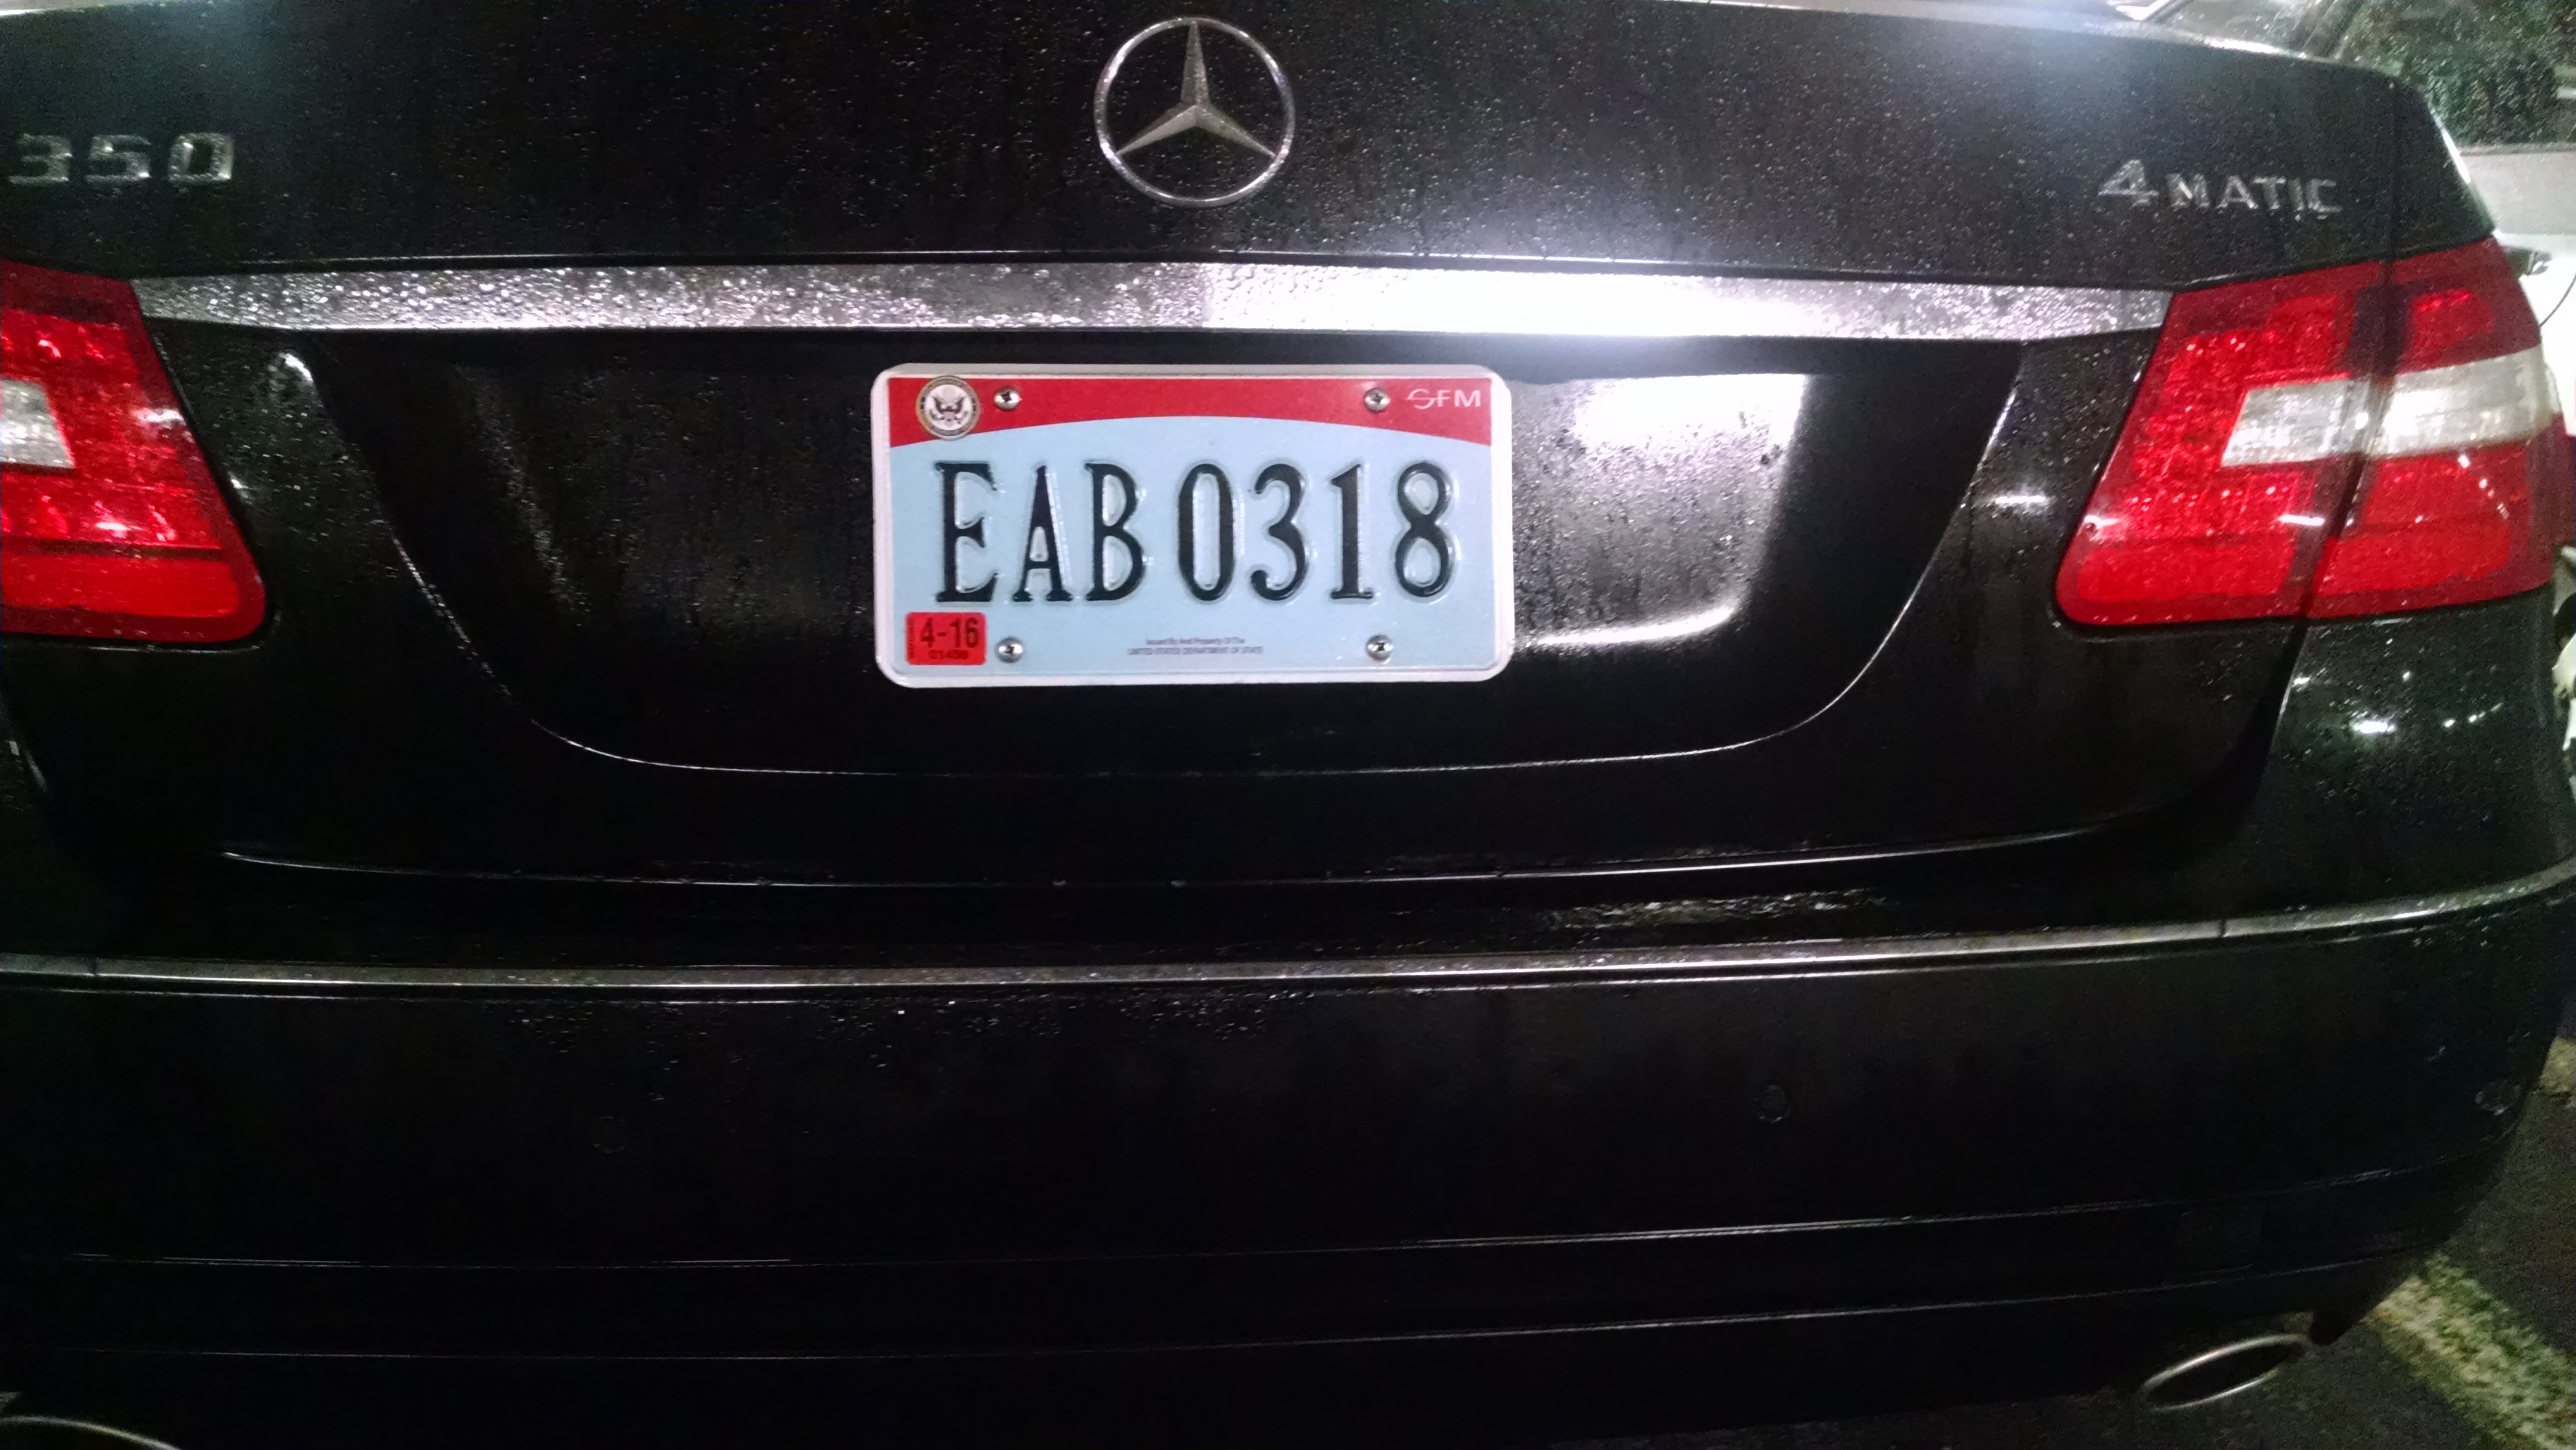license plate: (857, 361, 1522, 693)
